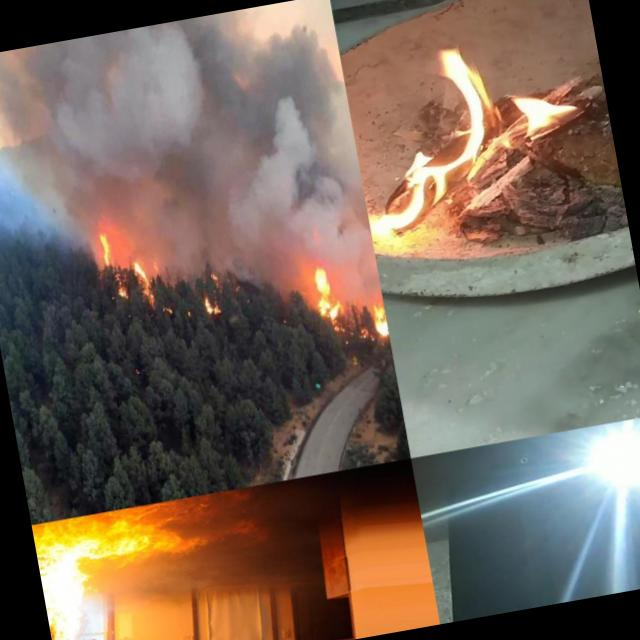fire: (347, 35, 591, 242), (31, 484, 270, 574), (82, 216, 162, 312), (40, 566, 108, 640), (300, 260, 350, 335), (194, 260, 229, 320), (364, 296, 392, 358)
smoke: (0, 0, 360, 239), (89, 526, 325, 620), (210, 180, 340, 280), (326, 172, 382, 302), (146, 199, 220, 271)
